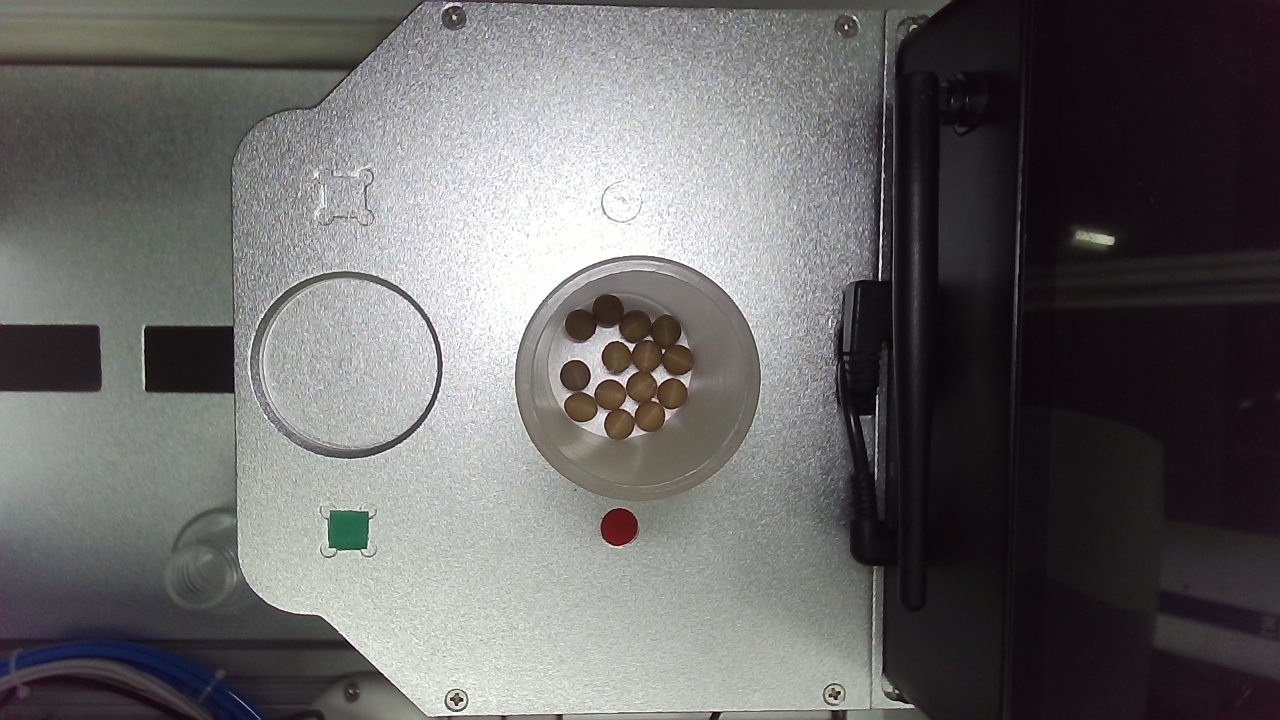XLabel: (890, 357, 924, 390)
YLabel: (671, 364, 706, 399)
none: (612, 433, 772, 595)
transparentempty: (833, 429, 1167, 668)
